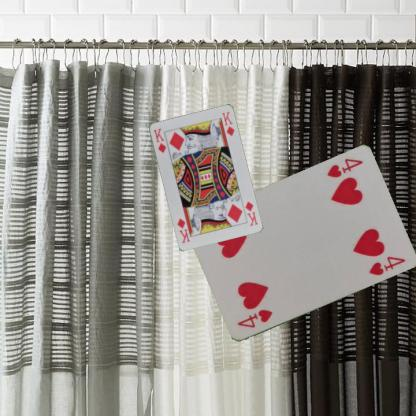4h: (324, 156, 364, 180), (234, 307, 274, 330)
Kd: (150, 125, 167, 154), (242, 199, 259, 227)
